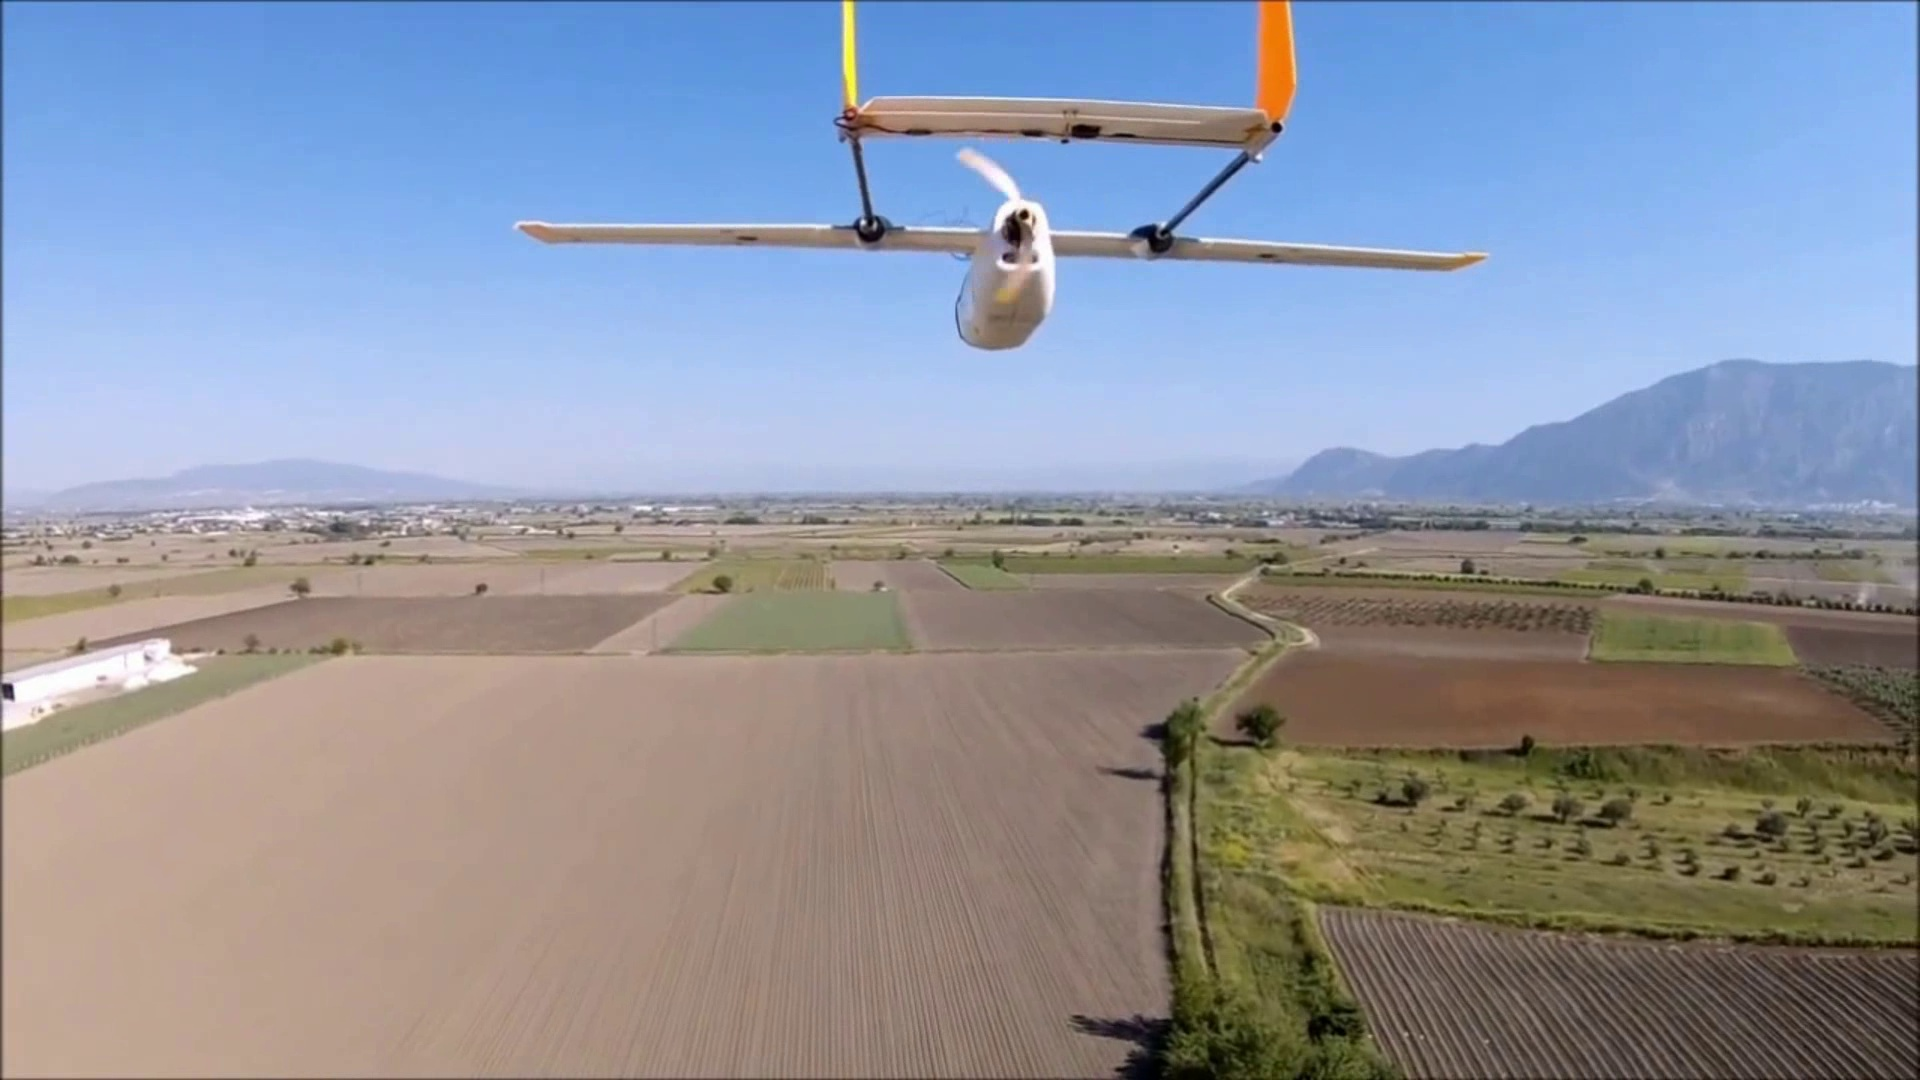airplane: (516, 5, 1486, 352)
